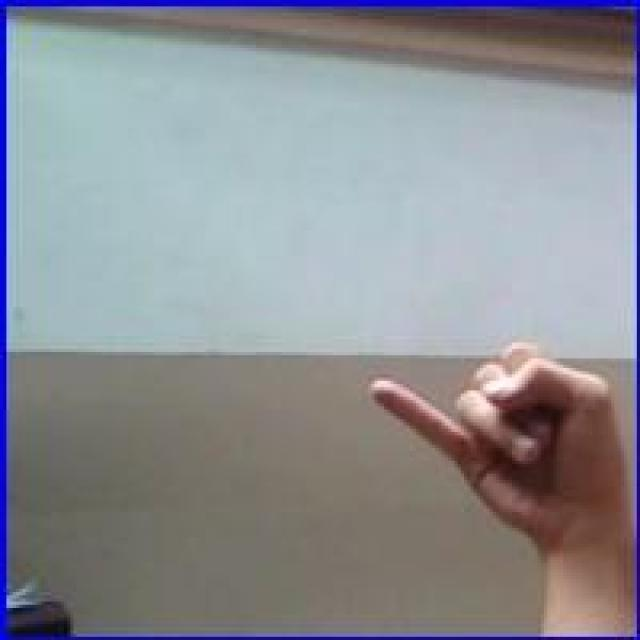J: (362, 331, 627, 552)
